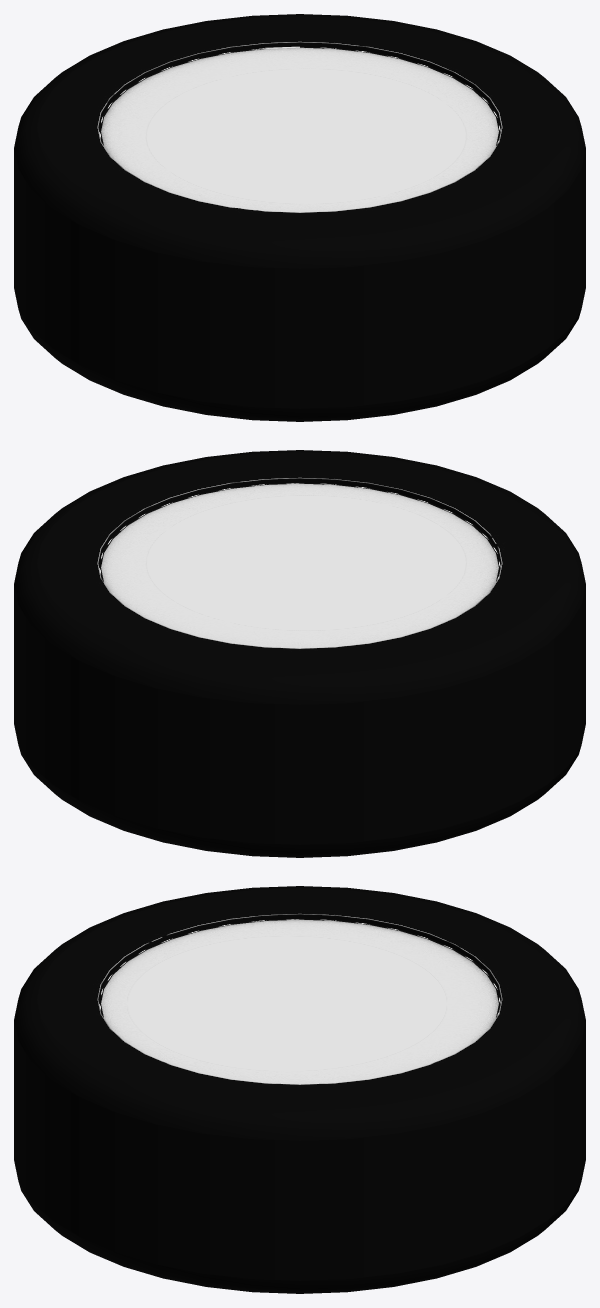
File: Hockey Puck.fbx
3 views of the same model, one above another, from view 1: azimuth 30°, elevation 25°; view 2: azimuth 150°, elevation 25°; view 3: azimuth 270°, elevation 25° (orthographic).
Visible parts, largest first — view 1: Hockey_Puck; view 2: Hockey_Puck; view 3: Hockey_Puck.
Boxes of the visible parts, bbox=[...] form: Hockey_Puck: bbox=[14, 14, 585, 421]; Hockey_Puck: bbox=[14, 450, 585, 857]; Hockey_Puck: bbox=[14, 886, 585, 1293].
Size of the model in its own units: 38.24 by 13.38 by 38.24.
